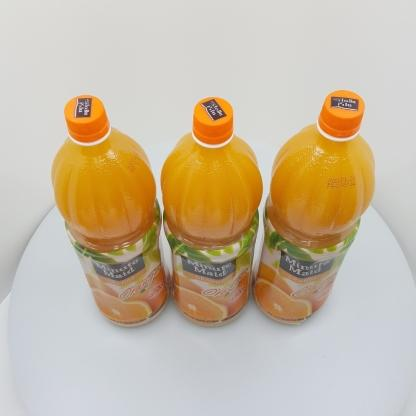-----------1-5L: (250, 90, 375, 325), (51, 95, 171, 327), (160, 97, 263, 327)
